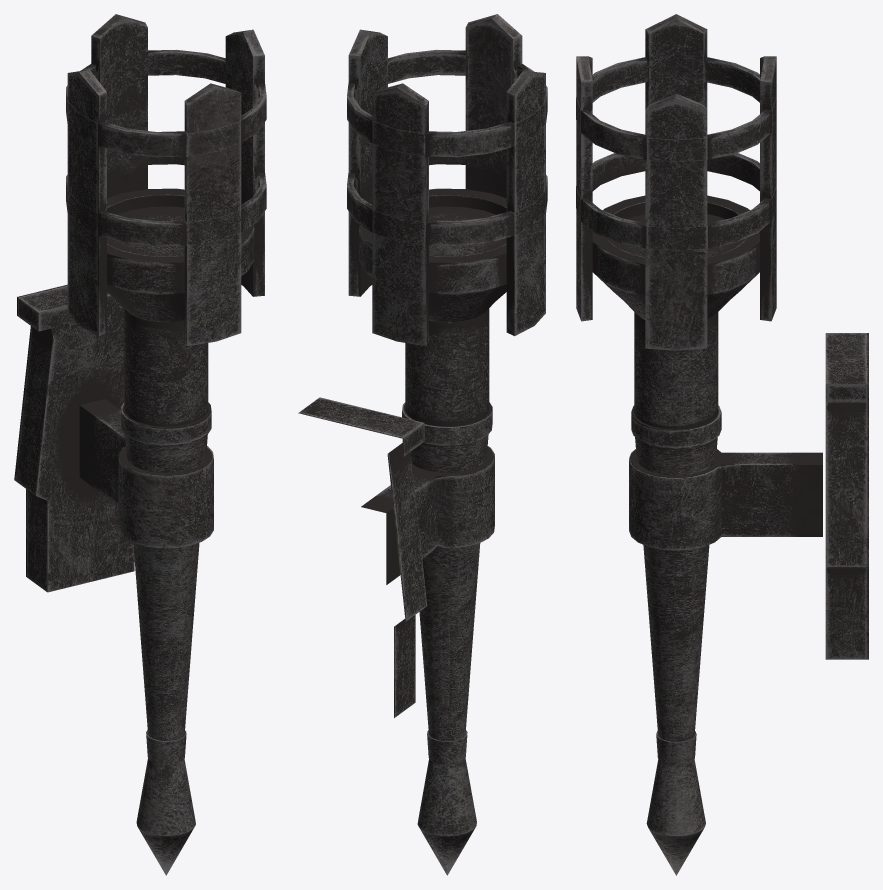
The model's file is antorcha glb.draco.glb.
The picture shows the model from 3 angles, left to right: view 1: azimuth 30°, elevation 25°; view 2: azimuth 150°, elevation 25°; view 3: azimuth 270°, elevation 25°; orthographic projection.
Parts seen in each view (by area): view 1: torch2; view 2: torch2; view 3: torch2.
Boxes of the visible parts, box(x1,y1,x2,y2) form: torch2: box(14, 14, 266, 875); torch2: box(298, 14, 547, 875); torch2: box(576, 14, 868, 875).
Bounding box in the file's own units: 0.1267 × 0.5711 × 0.1849.
1 material, 1 textured.
